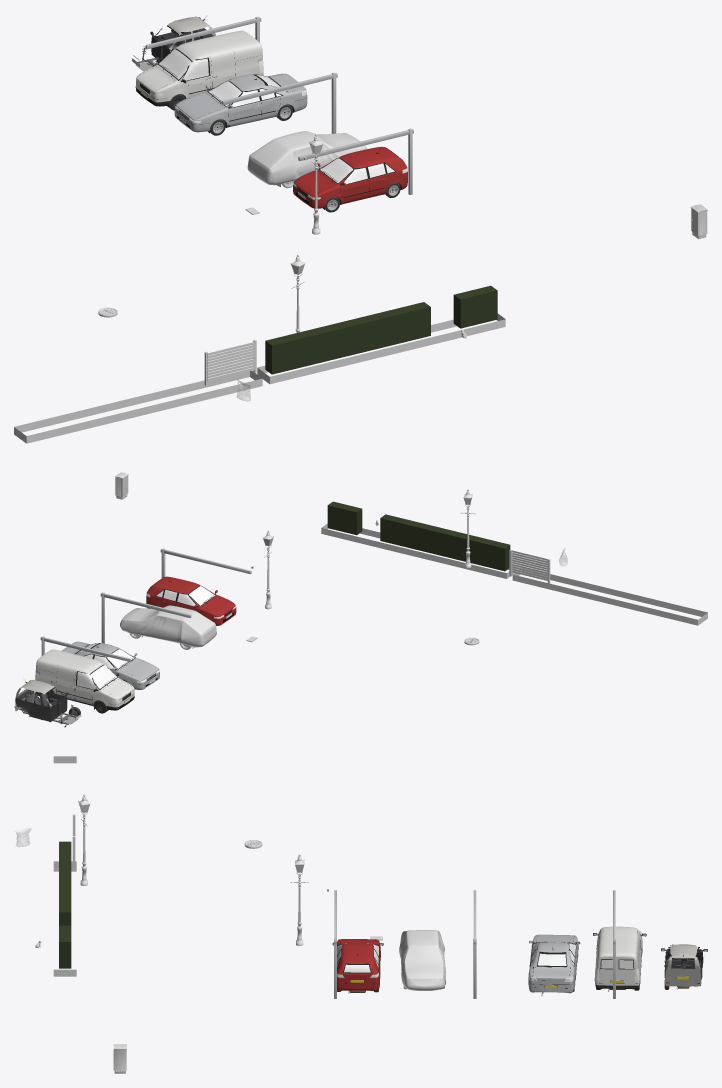
Rendered from cell_1_m1.glb.
3 renders of one model, top to bottom at view 1: azimuth 30°, elevation 25°; view 2: azimuth 150°, elevation 25°; view 3: azimuth 270°, elevation 25°, orthographic. The views are drawn at different scales.
Visible parts, largest first — view 1: cell_1_m1; view 2: cell_1_m1; view 3: cell_1_m1.
Part boxes in pixels (x1,y1,x2,y2): cell_1_m1: (14,16,707,443); cell_1_m1: (14,472,707,727); cell_1_m1: (15,756,707,1073).
Bounding box in the file's own units: 29.37 × 4.21 × 27.08.
